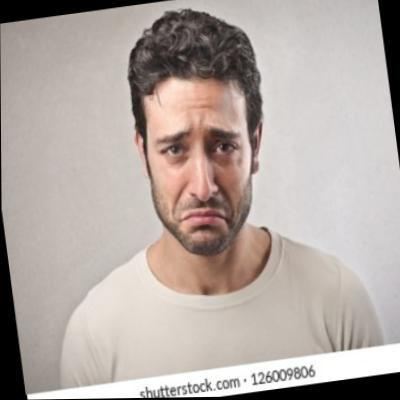sad: (139, 74, 261, 260)
